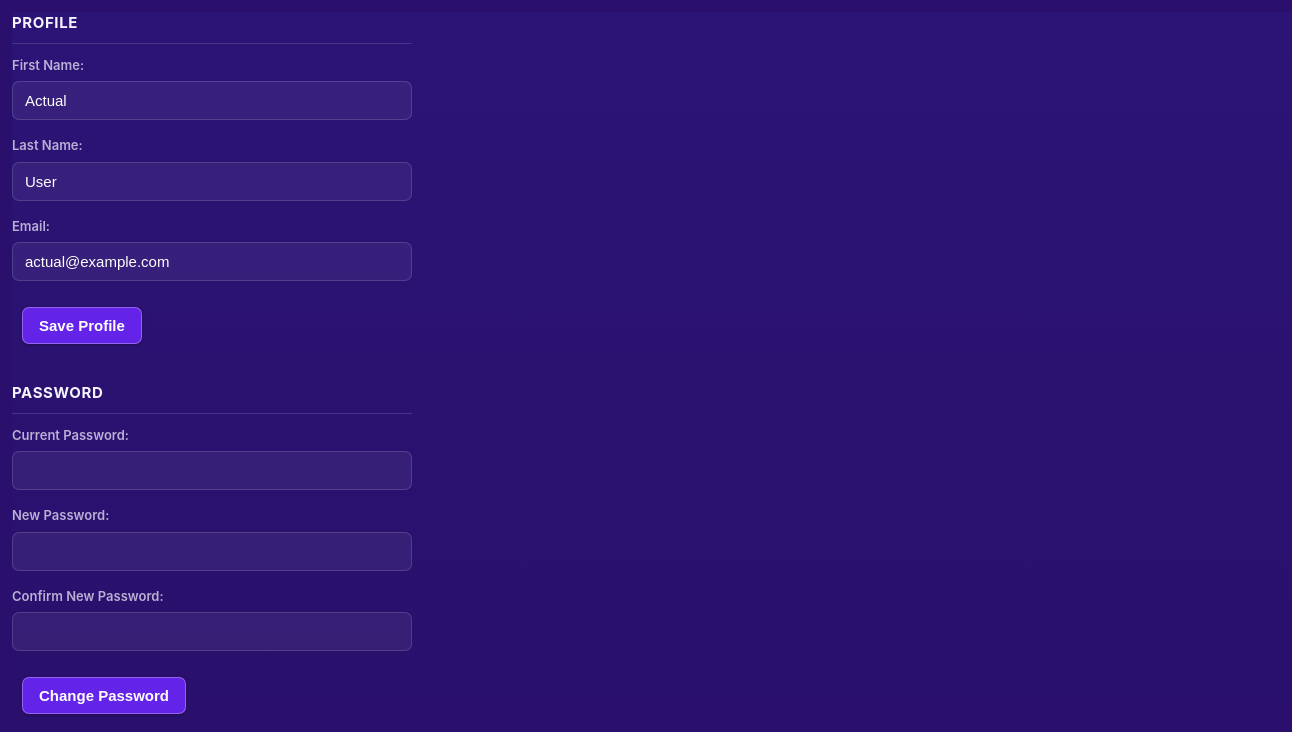
Test: SettingsPage › shows the server error when the new email is already in use
Expected: the field showing "actual@example.com" is shown, [12, 242, 412, 281]
Click the button "Save Profile" at (82, 326), box [22, 307, 142, 344]
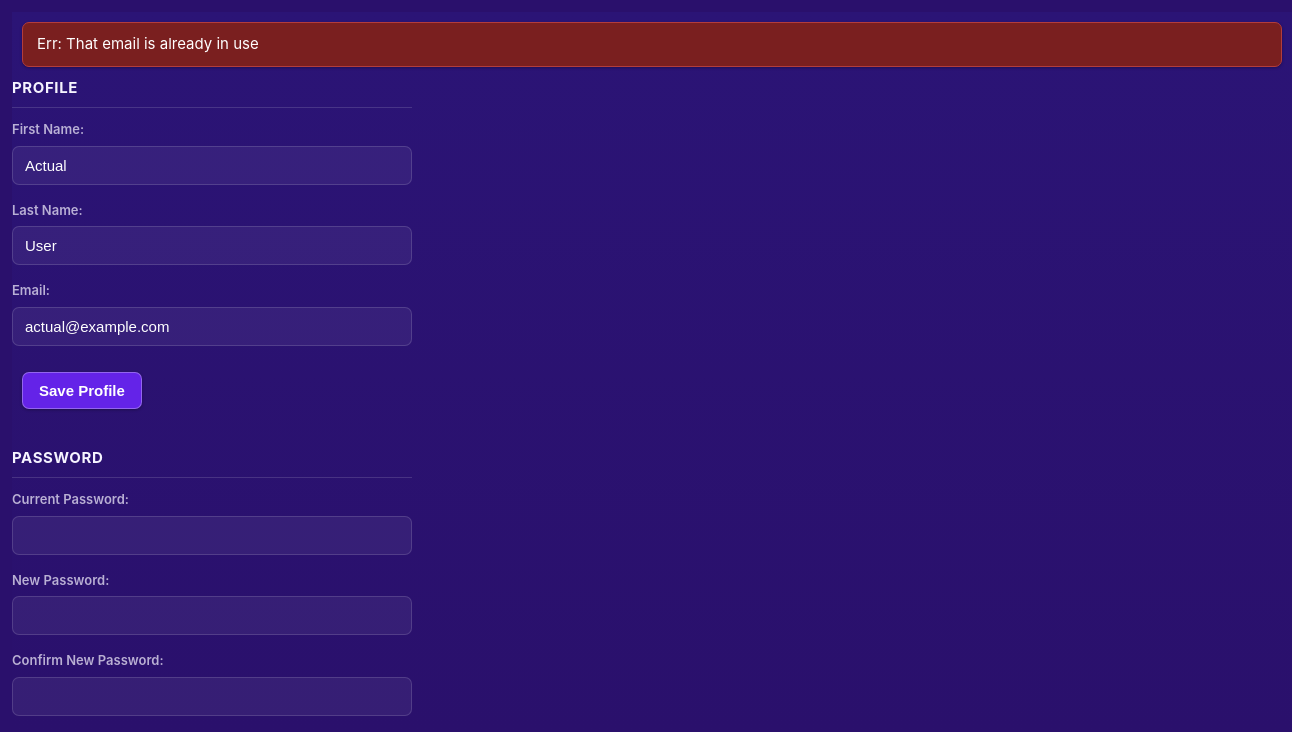
Now the text "Err: That email is already in use" is shown, box [22, 22, 1282, 66]
